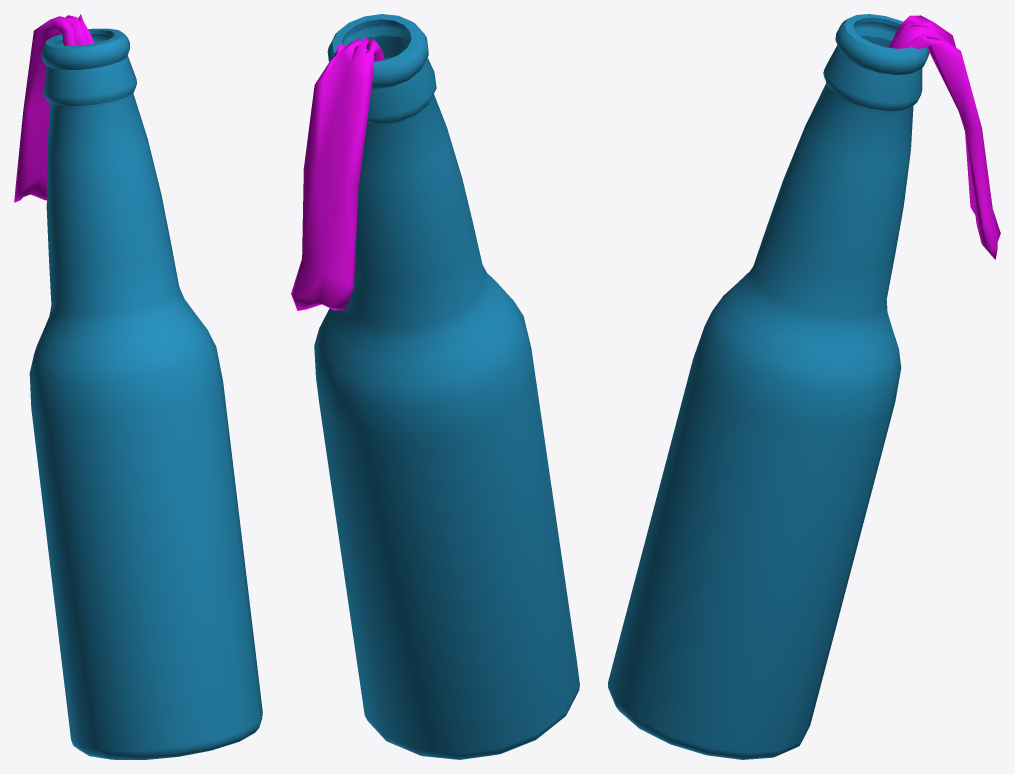
Rendered from molotof.glb.
3 renders of one model, left to right at view 1: azimuth 30°, elevation 25°; view 2: azimuth 150°, elevation 25°; view 3: azimuth 270°, elevation 25°, orthographic. The views are drawn at different scales.
Visible parts, largest first — view 1: Bottle, Fabric; view 2: Bottle, Fabric; view 3: Bottle, Fabric.
Boxes of the visible parts, x1,y1,x2,y2 form: Bottle: [29, 28, 262, 759]; Fabric: [14, 14, 93, 202]; Bottle: [314, 14, 579, 759]; Fabric: [291, 37, 384, 310]; Bottle: [608, 14, 929, 759]; Fabric: [889, 15, 1000, 259].
Bounding box in the file's own units: 0.0545 × 0.2069 × 0.103.
